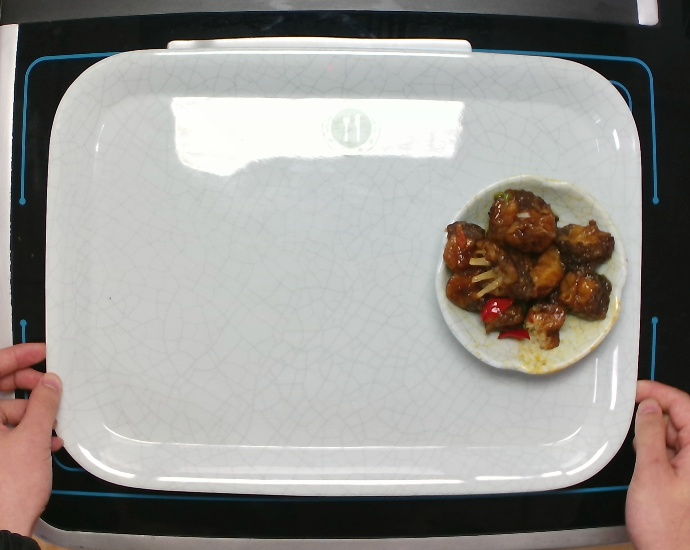JYsf-Ao_Yuan_Wan: (423, 168, 629, 388)
